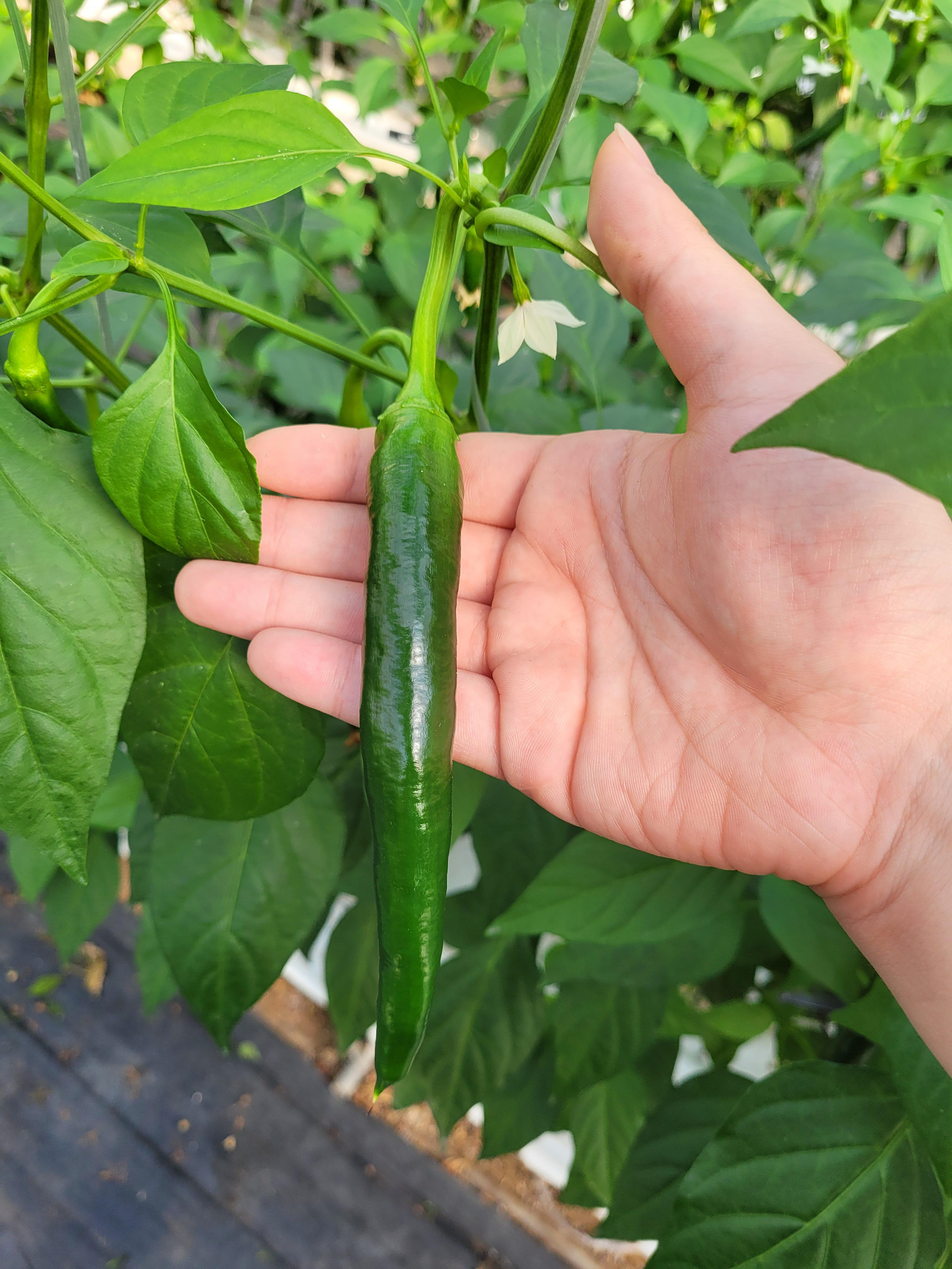Buah Cabai Sehat: (357, 395, 465, 1094)
Daun Cabai Sehat: (0, 374, 146, 888), (85, 313, 257, 564), (60, 82, 358, 213)
